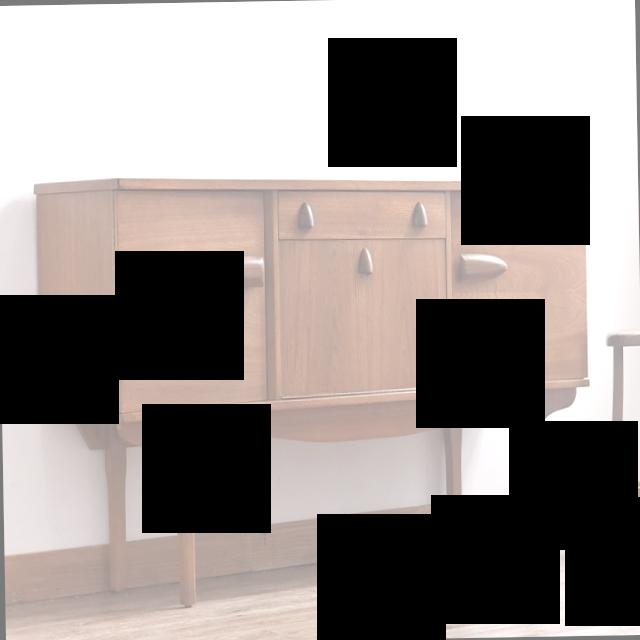vintage shelf: (24, 161, 606, 614)
